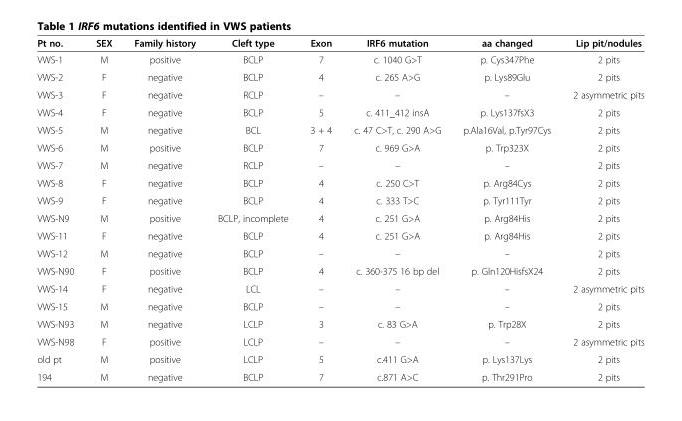table: (36, 36, 643, 382)
table column: (451, 36, 561, 382), (342, 36, 451, 382), (206, 36, 298, 382), (122, 36, 206, 382), (561, 36, 643, 382), (36, 36, 84, 382), (298, 36, 342, 382), (84, 36, 122, 382)
table column header: (36, 36, 643, 50)
table row: (36, 67, 643, 85), (36, 85, 643, 103), (36, 120, 643, 138), (36, 138, 643, 156), (36, 173, 643, 191), (36, 191, 643, 209), (36, 226, 643, 244), (36, 261, 643, 279), (36, 279, 643, 297), (36, 314, 643, 332), (36, 332, 643, 350), (36, 50, 643, 67), (36, 103, 643, 120), (36, 156, 643, 173), (36, 209, 643, 226), (36, 244, 643, 261), (36, 297, 643, 314), (36, 350, 643, 367), (36, 367, 643, 382), (36, 36, 643, 50)
